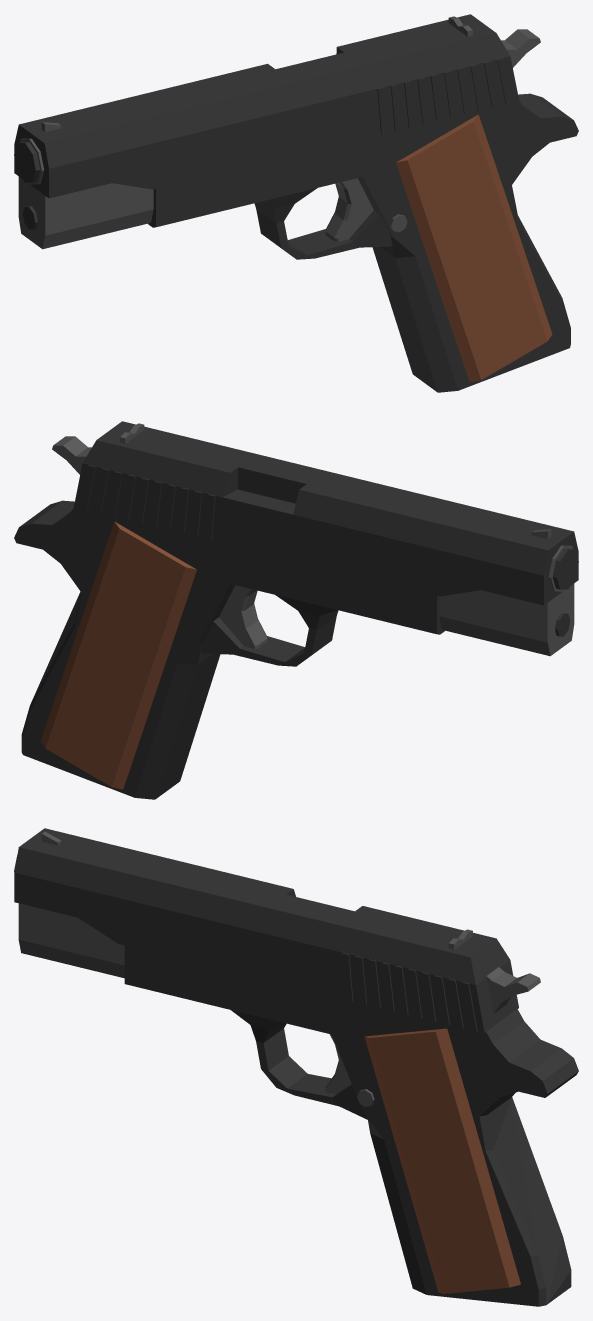
The model's file is gun_7970fdd2.glb.
3 renders of one model, top to bottom at view 1: azimuth 30°, elevation 25°; view 2: azimuth 150°, elevation 25°; view 3: azimuth 330°, elevation 25°, orthographic.
Visible parts, largest first — view 1: Cube, Cube.002, Cube.004, Cube.001, Cube.003, Cylinder.003, Plane; view 2: Cube, Cube.002, Cube.005, Cube.001, Cube.003, Cylinder.003, Plane; view 3: Cube, Cube.002, Cube.004, Cube.001, Plane.
Part boxes in pixels (x1,y1,x2,y2): Cube: (14, 14, 518, 198); Cube.002: (148, 93, 578, 392); Cube.004: (396, 114, 552, 382); Cube.001: (18, 176, 153, 249); Cube.003: (325, 178, 373, 241); Cylinder.003: (14, 142, 40, 182); Plane: (501, 29, 540, 67); Cube: (74, 421, 578, 605); Cube.002: (14, 500, 444, 799); Cube.005: (40, 521, 196, 789); Cube.001: (439, 583, 574, 656); Cube.003: (219, 585, 267, 648); Cylinder.003: (552, 549, 578, 589); Plane: (52, 436, 91, 474); Cube: (14, 828, 518, 1033); Cube.002: (124, 945, 578, 1306); Cube.004: (364, 1028, 520, 1293); Cube.001: (18, 903, 124, 978); Plane: (486, 967, 540, 1013).
Bounding box in the file's own units: 9.9 × 6.22 × 1.21.
